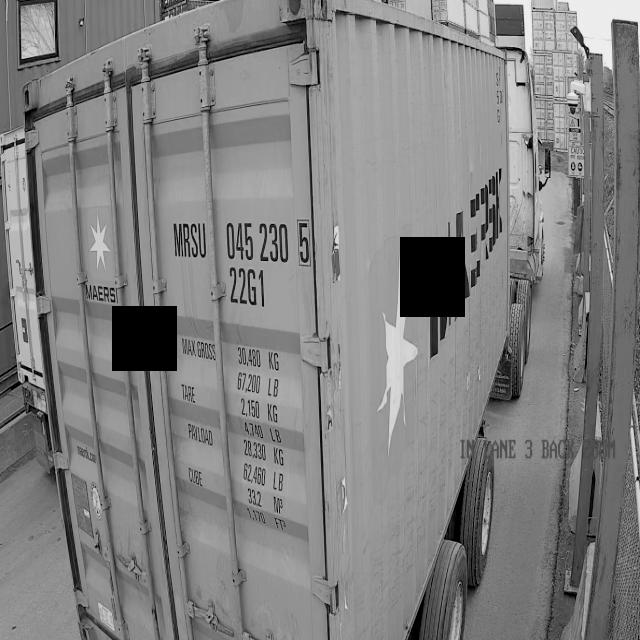container_company_logo: (84, 200, 124, 304)
container_number: (167, 208, 312, 312)
other_container_info: (171, 319, 294, 538)
truck_with_container: (26, 0, 550, 640)
